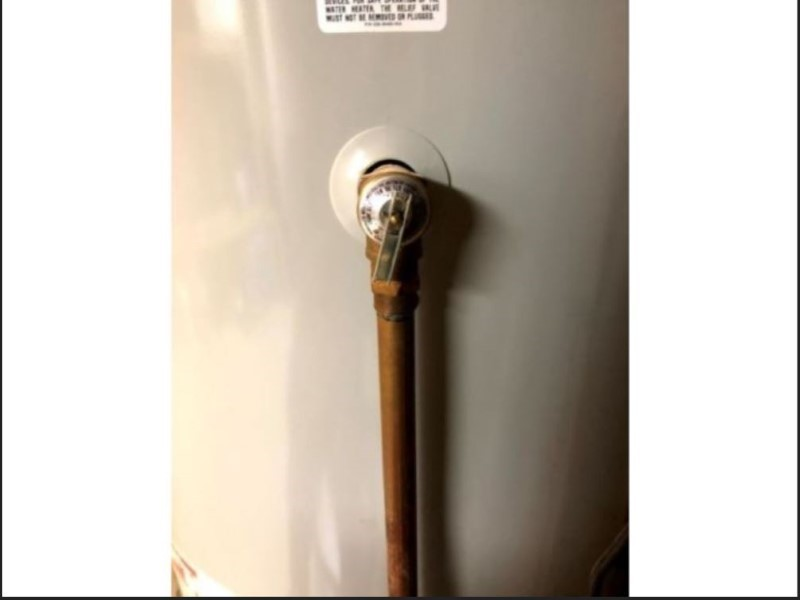Valve: (354, 171, 433, 289)
